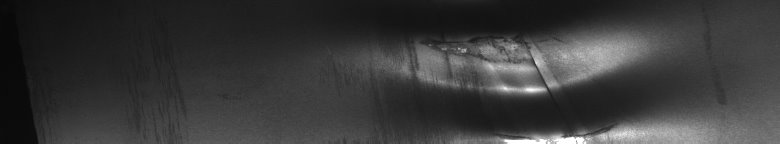ke: (384, 32, 644, 136)
